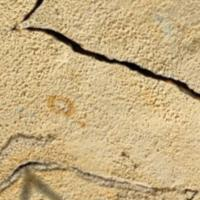crack: (12, 0, 199, 106)
